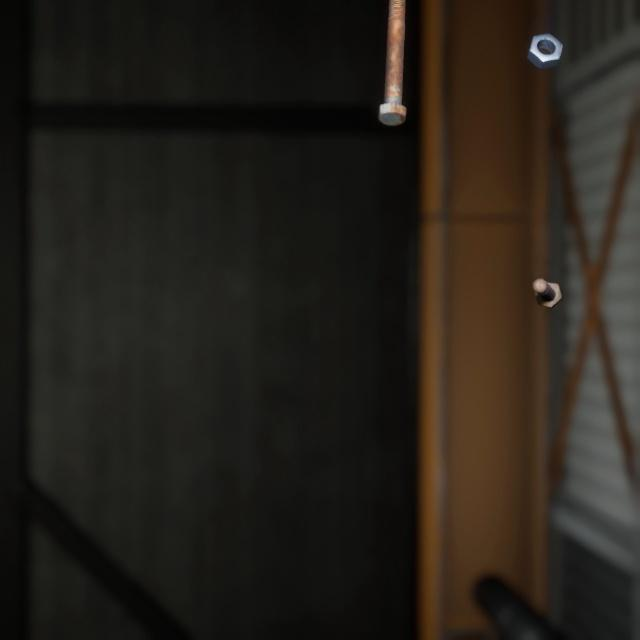bolt: (373, 0, 410, 121), (528, 256, 566, 296)
nut: (522, 20, 567, 64)
